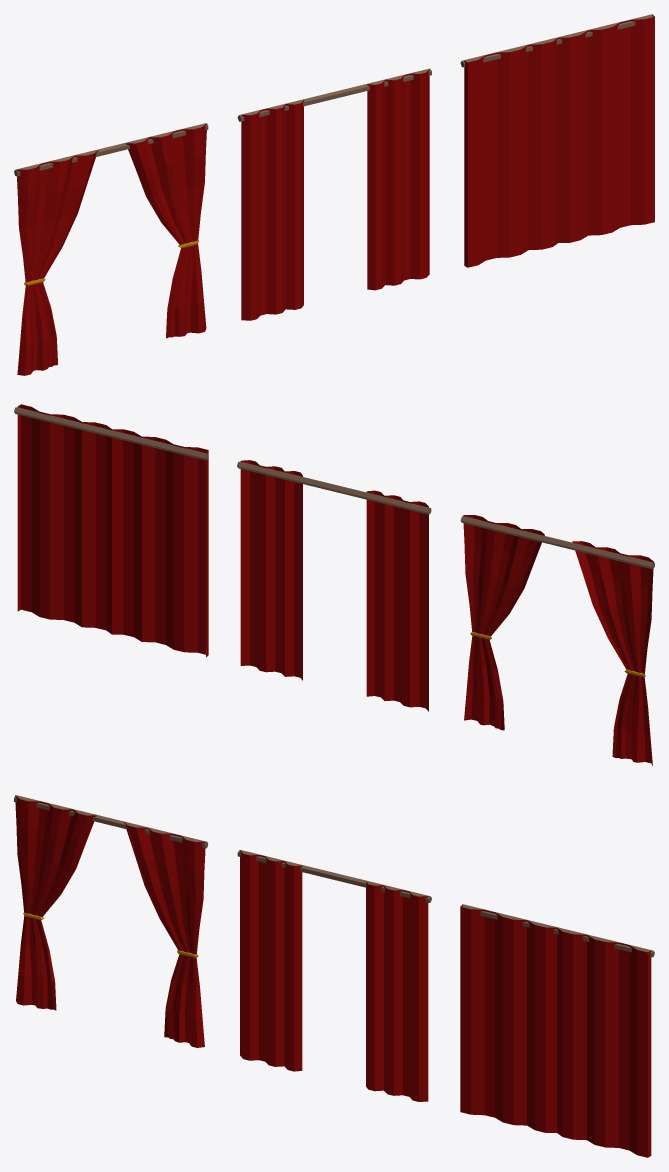
Rendered from Curtains.fbx.
3 renders of one model, top to bottom at view 1: azimuth 30°, elevation 25°; view 2: azimuth 150°, elevation 25°; view 3: azimuth 330°, elevation 25°, orthographic.
Visible parts, largest first — view 1: ClosedCurtains, DefaultCurtains, OpenCurtains; view 2: ClosedCurtains, DefaultCurtains, OpenCurtains; view 3: ClosedCurtains, DefaultCurtains, OpenCurtains.
Boxes of the visible parts, box(x1,y1,x2,y2) form: ClosedCurtains: box(460, 14, 654, 267); DefaultCurtains: box(237, 68, 431, 320); OpenCurtains: box(14, 123, 208, 375); ClosedCurtains: box(14, 404, 208, 657); DefaultCurtains: box(237, 460, 431, 711); OpenCurtains: box(460, 515, 654, 765); ClosedCurtains: box(460, 904, 654, 1157); DefaultCurtains: box(237, 850, 431, 1101); OpenCurtains: box(14, 795, 208, 1047).
Bounding box in the file's own units: 2785 × 857 × 40.08.
